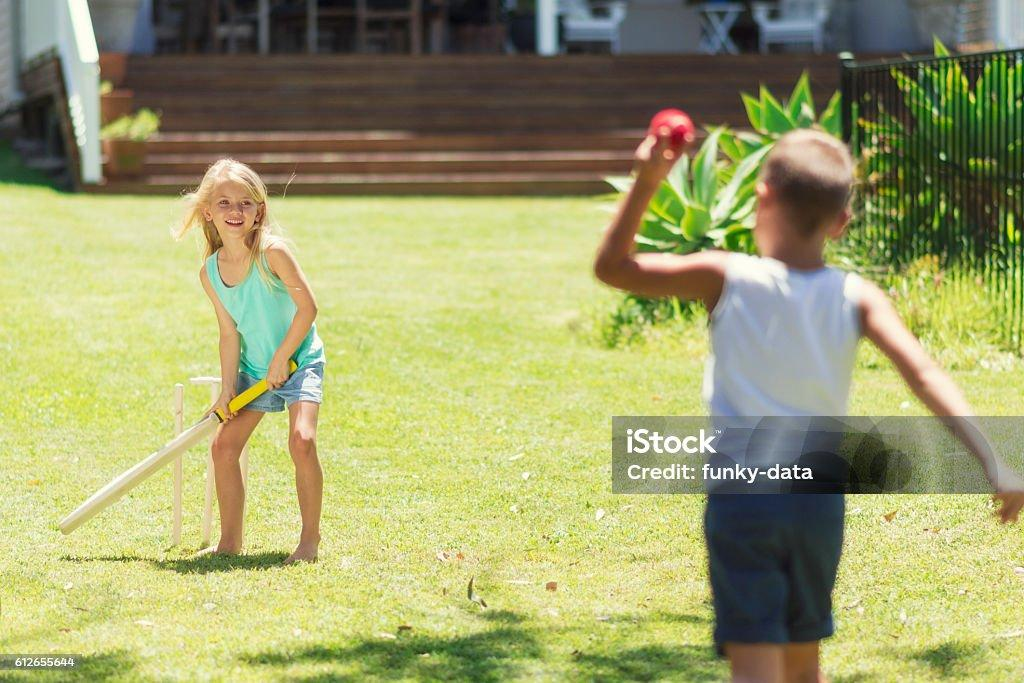batsman: (166, 147, 330, 576)
